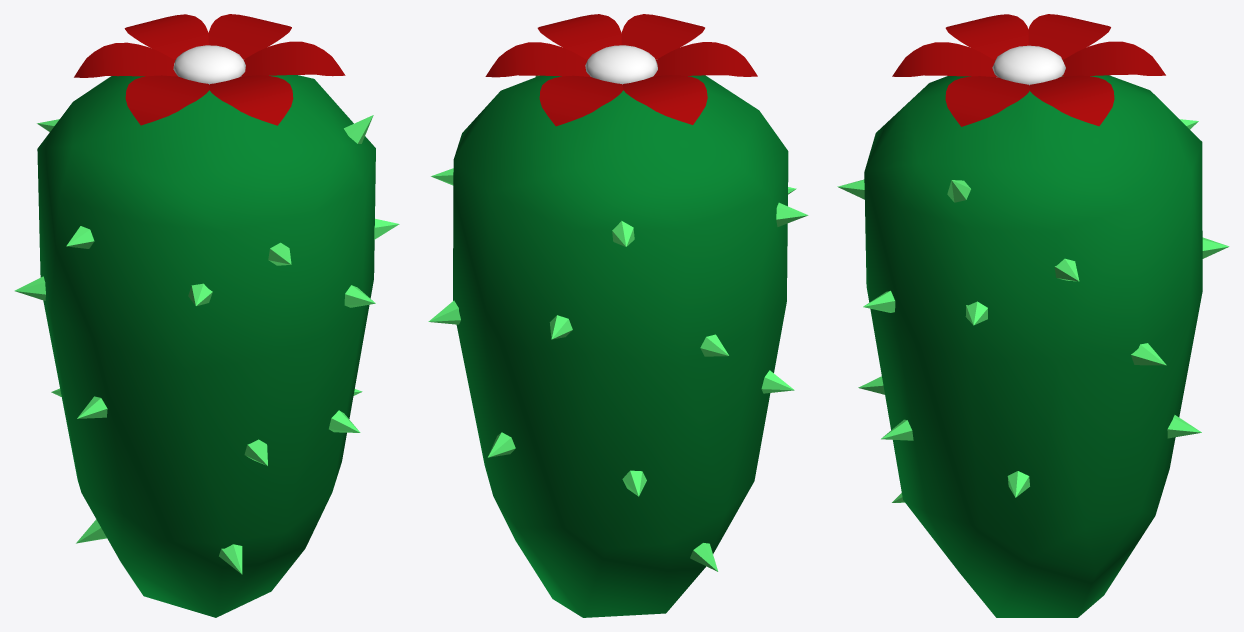
The model's file is Wall_Tile_Cactus.fbx.
The picture shows the model from 3 angles, left to right: view 1: azimuth 30°, elevation 25°; view 2: azimuth 150°, elevation 25°; view 3: azimuth 270°, elevation 25°; orthographic projection.
Visible parts, largest first — view 1: Wall_Tile_Cactus; view 2: Wall_Tile_Cactus; view 3: Wall_Tile_Cactus.
Boxes of the visible parts, <box> form: Wall_Tile_Cactus: <box>14,14,399,617</box>; Wall_Tile_Cactus: <box>428,14,808,617</box>; Wall_Tile_Cactus: <box>837,14,1229,617</box>.
Bounding box in the file's own units: 1.81 × 1.85 × 2.82.
